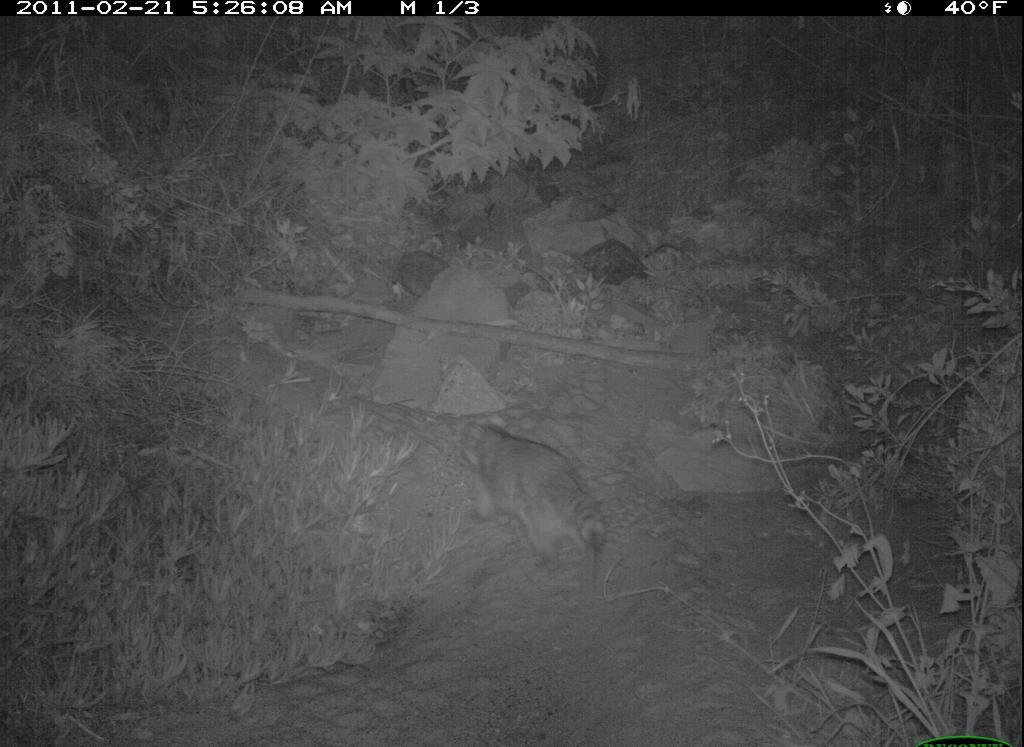raccoon: (451, 406, 619, 587)
